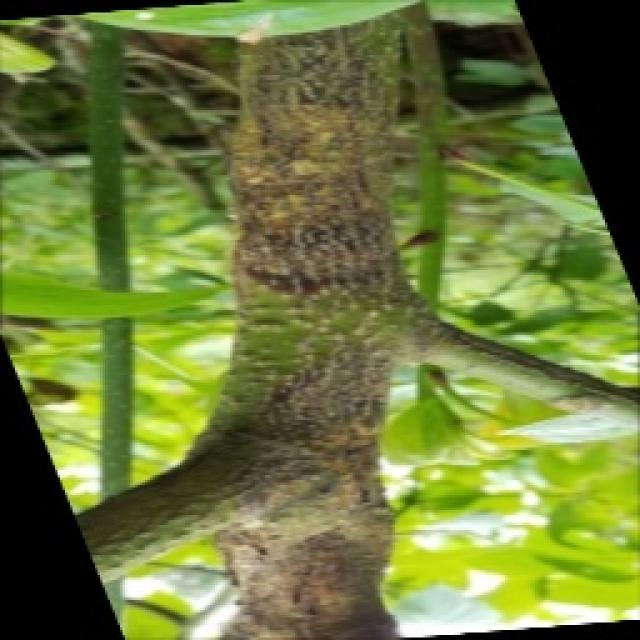Golden_canker: (83, 50, 512, 628)
